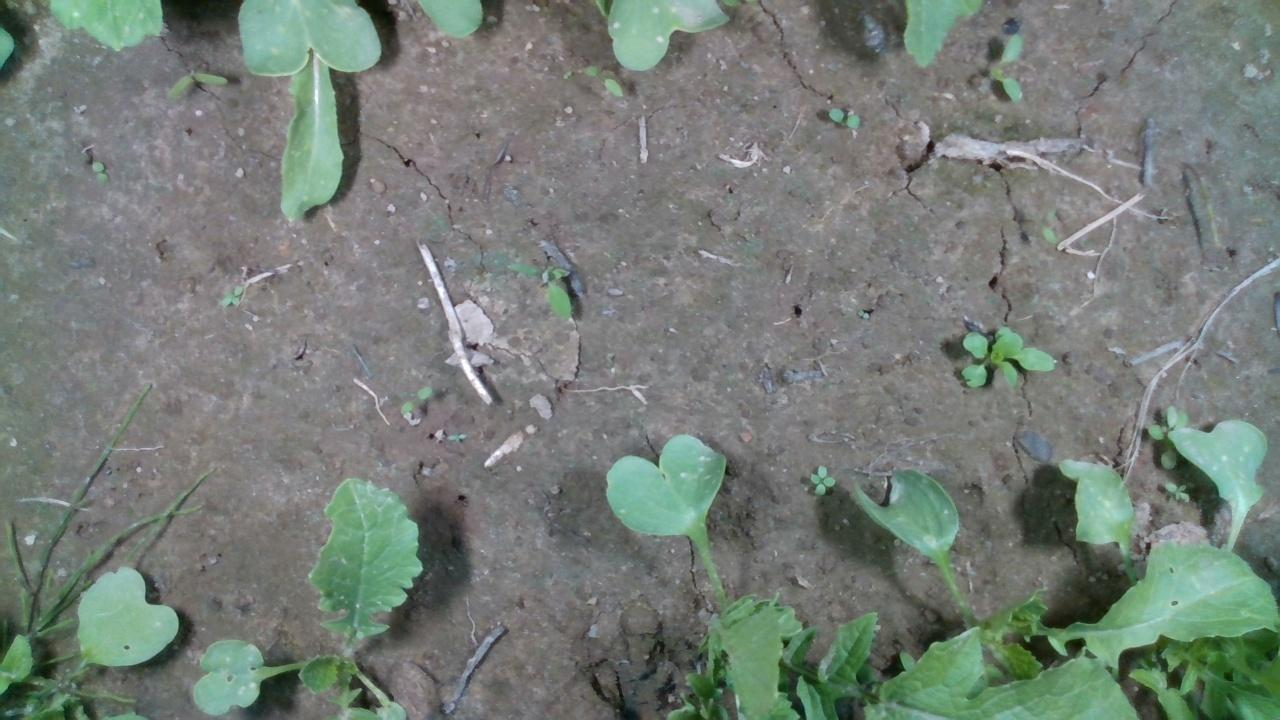weed: (501, 261, 575, 323), (986, 29, 1024, 103), (164, 68, 227, 99), (581, 63, 623, 98), (395, 383, 433, 414), (806, 461, 835, 497), (824, 106, 860, 131), (1161, 479, 1191, 506), (217, 282, 243, 309), (89, 159, 109, 185)
